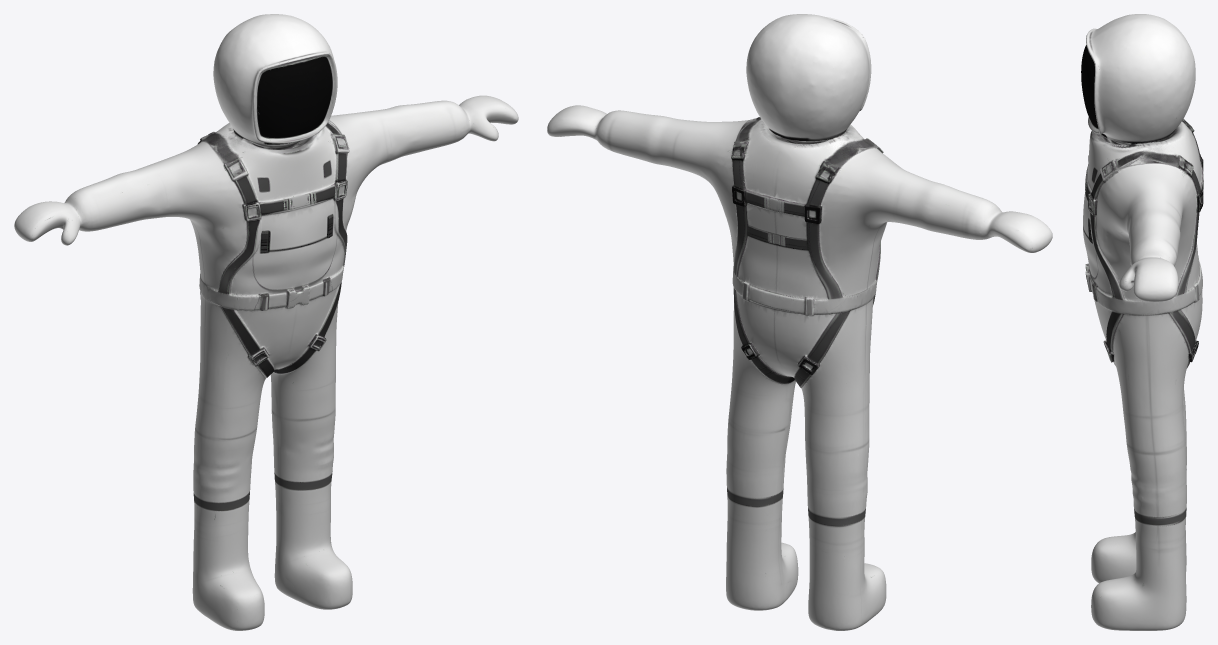
The model's file is Player.fbx.
The picture shows the model from 3 angles, left to right: view 1: azimuth 30°, elevation 25°; view 2: azimuth 150°, elevation 25°; view 3: azimuth 270°, elevation 25°; orthographic projection.
Parts seen in each view (by area): view 1: Mesh_0; view 2: Mesh_0; view 3: Mesh_0.
Boxes of the visible parts, bbox=[...] form: Mesh_0: bbox=[14, 14, 518, 630]; Mesh_0: bbox=[547, 14, 1052, 630]; Mesh_0: bbox=[1081, 14, 1203, 630].
Size of the model in its own units: 176 by 200 by 38.27.
1 material, 1 textured.
